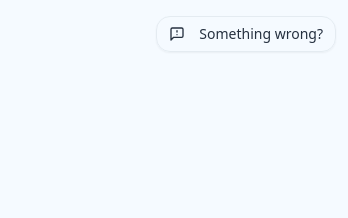
Test: TrialReportControl › offers "should have counted" for a trial marked wrong
Click the button "Something wrong?".
click(246, 34)  # box [156,16,336,52]
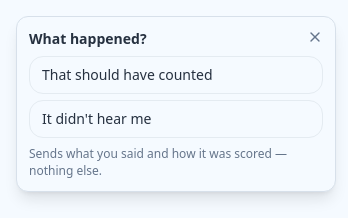
Expected: the button "That should have counted" is shown, [29,56,323,94]
